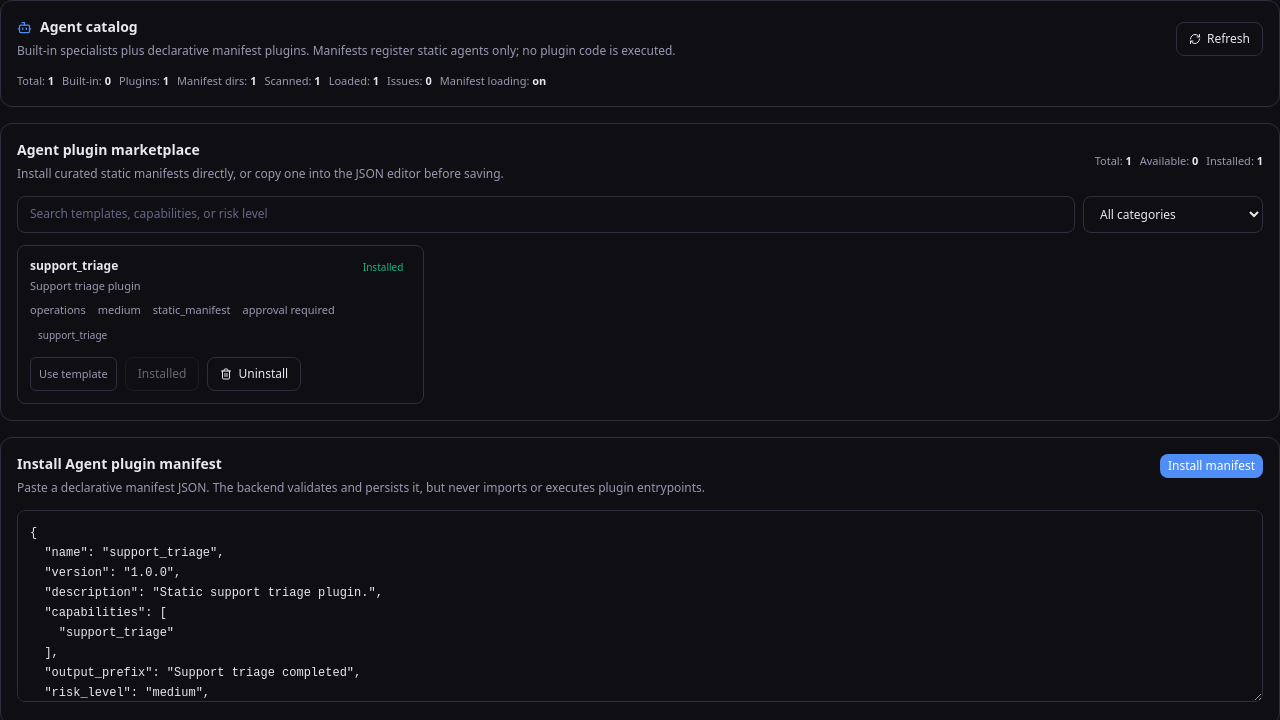
Scenario: AgentCatalogPanel › uninstalls installed marketplace Agent plugin manifests
Click the button with test id "settings-agent-plugin-template-uninstall-support_triage" at (254, 374), box [207,357,301,391]
(page scrolled)
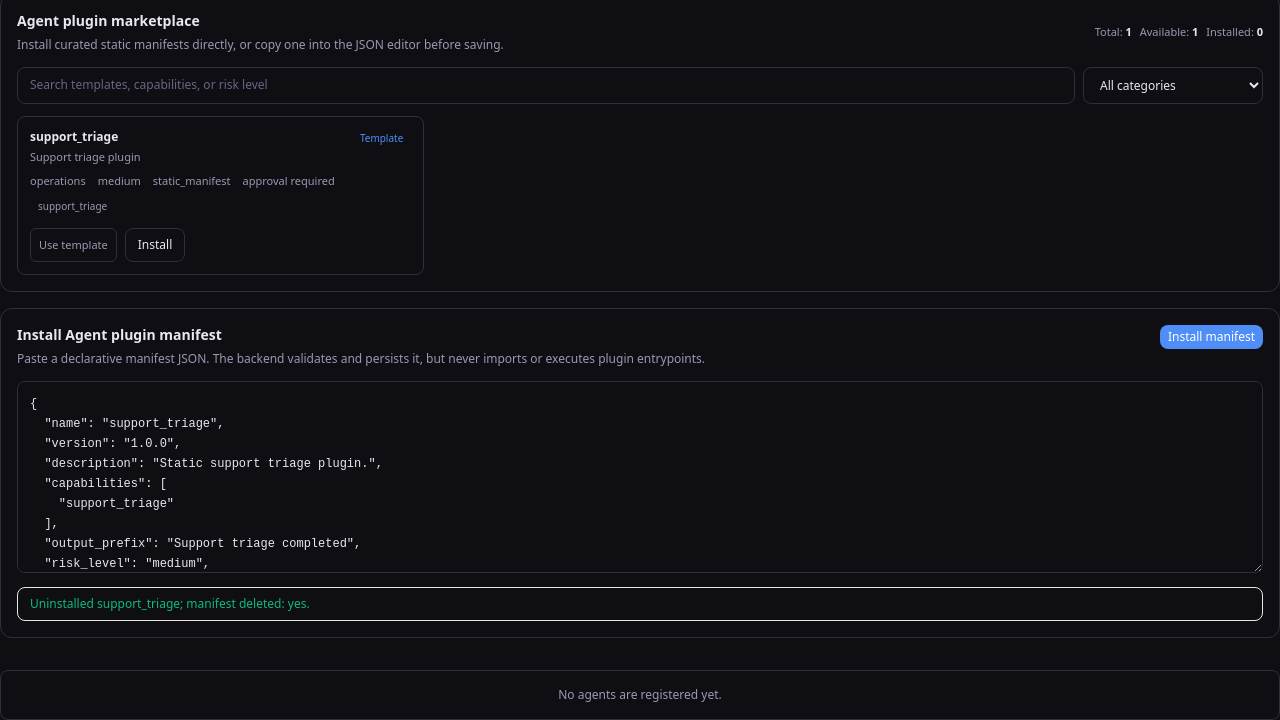
expect the text with test id "settings-agent-plugin-install-success" reads "Uninstalled support_triage; manifest deleted: yes.": met, box [30,595,310,612]
